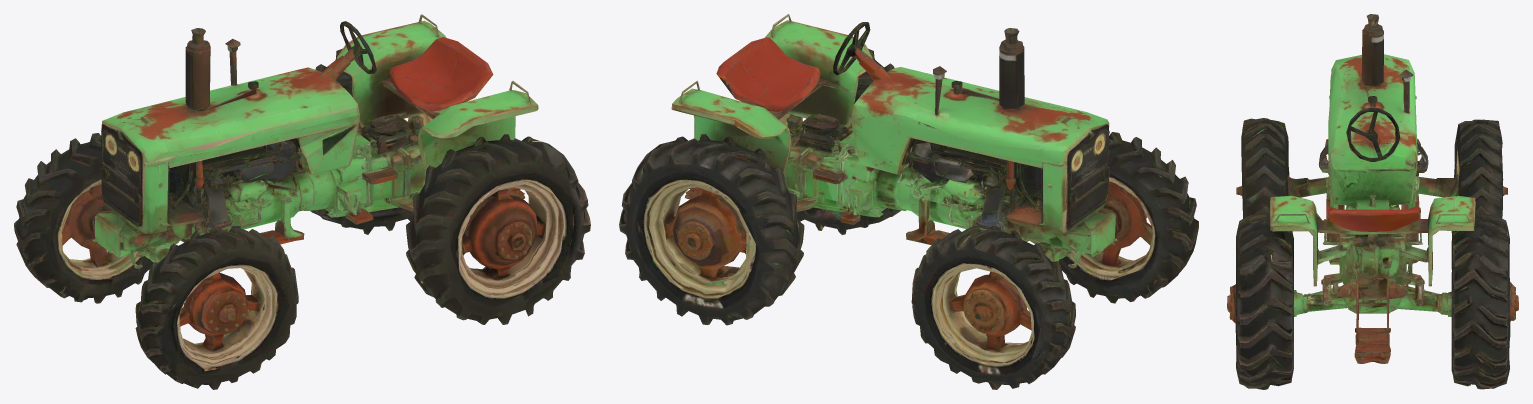
The model's file is country-tractor-lod.glb.
The picture shows the model from 3 angles, left to right: view 1: azimuth 30°, elevation 25°; view 2: azimuth 150°, elevation 25°; view 3: azimuth 270°, elevation 25°; orthographic projection. The views are drawn at different scales.
Parts seen in each view (by area): view 1: country-tractor-Mesh_0.008; view 2: country-tractor-Mesh_0.008; view 3: country-tractor-Mesh_0.008.
Part boxes in pixels (<box>): country-tractor-Mesh_0.008: <box>14,14,590,389</box>; country-tractor-Mesh_0.008: <box>619,14,1198,389</box>; country-tractor-Mesh_0.008: <box>1227,14,1518,389</box>.
Bounding box in the file's own units: 3.6 × 2.33 × 2.34.
1 material, 1 textured.
